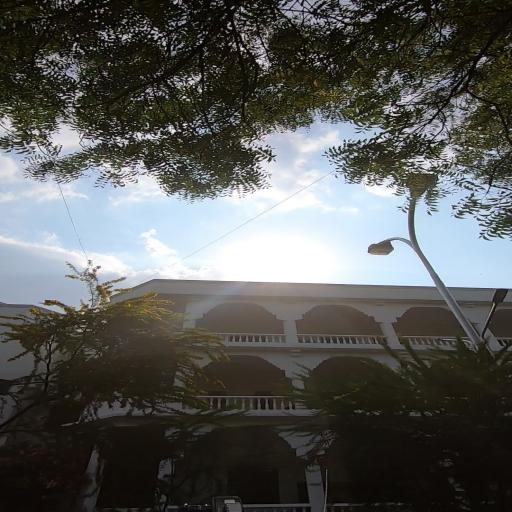Street_light: (400, 171, 446, 215), (362, 234, 405, 264)
